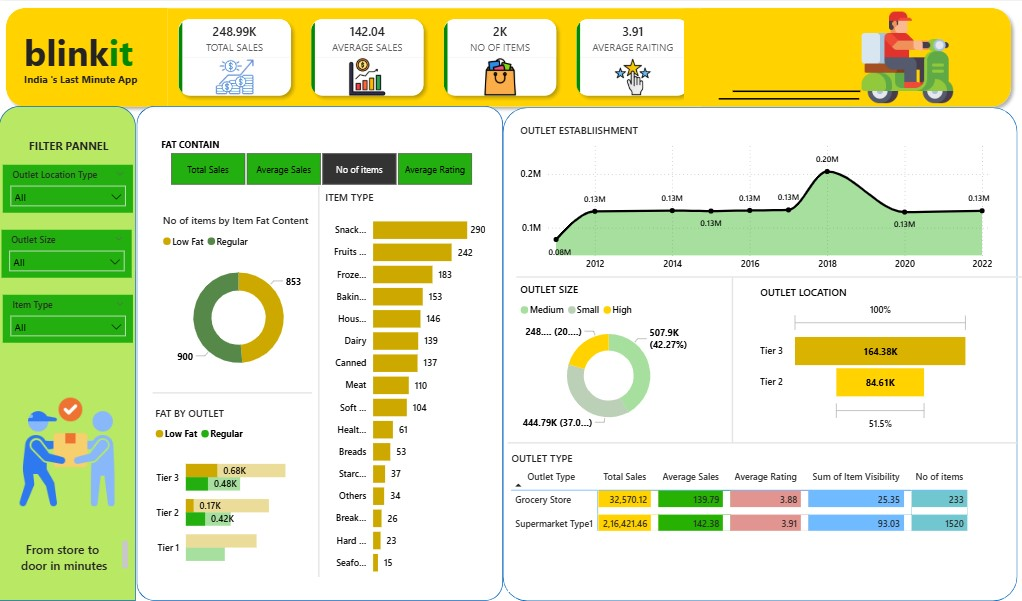

What the dashboard file says about the page in this screenshot:
{"tool":"powerbi","page":{"name":"Page 1","canvas":[1400,800],"ordinal":0},"visuals":[{"type":"shape","box":[0,0,1358.3,150.1],"z":0},{"type":"textbox","box":[28.8,30,167.5,100],"z":1000},{"type":"textbox","box":[28.5,90.1,199.6,30],"z":2000},{"type":"cardVisual","fields":{"Data":["BlinkIT Grocery Data.Total Sales","BlinkIT Grocery Data.Average Sales","BlinkIT Grocery Data.No of items","BlinkIT Grocery Data.Average Rating"]},"box":[205,10,710,130],"z":3000},{"type":"shape","box":[182.5,140,488.8,660],"z":4000},{"type":"donutChart","fields":{"Y":["BlinkIT Grocery Data.No of items"],"Series":["BlinkIT Grocery Data.Item Fat Content"]},"box":[212.5,282.5,212.5,232.5],"z":5000},{"type":"slicer","fields":{"Values":["Metrics.Metrics"]},"box":[202.5,177.5,451.2,73.8],"z":6000},{"type":"clusteredBarChart","title":"FAT BY  OUTLET","fields":{"Y":["BlinkIT Grocery Data.No of items"],"Category":["BlinkIT Grocery Data.Outlet Location Type"],"Series":["BlinkIT Grocery Data.Item Fat Content"]},"box":[202.5,540,222.5,232.5],"z":7000},{"type":"shape","box":[205.5,510.5,212.5,25],"z":8000},{"type":"shape","box":[418,246.8,16.2,521.2],"z":9000},{"type":"barChart","title":"ITEM TYPE","fields":{"Y":["BlinkIT Grocery Data.No of items"],"Category":["BlinkIT Grocery Data.Item Type"]},"box":[430,251.2,223.8,526.2],"z":10000},{"type":"shape","box":[671.2,141.2,686.2,658.8],"z":11000},{"type":"lineChart","title":"OUTLET ESTABLIISHMENT","fields":{"Y":["BlinkIT Grocery Data.Total Sales"],"Category":["BlinkIT Grocery Data.Outlet Establishment Year"]},"box":[690,163.8,640,205],"z":12000},{"type":"shape","box":[690.6,353.6,677.9,29.3],"z":13000},{"type":"donutChart","title":"OUTLET SIZE","fields":{"Category":["BlinkIT Grocery Data.Outlet Size"],"Y":["BlinkIT Grocery Data.Total Sales"]},"box":[690,375,246.2,203.8],"z":14000},{"type":"funnel","title":"OUTLET LOCATION","fields":{"Category":["BlinkIT Grocery Data.Outlet Location Type"],"Y":["Sum(BlinkIT Grocery Data.Sales)"]},"box":[1010,377.5,288.8,201.2],"z":15000},{"type":"pivotTable","title":"OUTLET TYPE","fields":{"Values":["BlinkIT Grocery Data.Total Sales","BlinkIT Grocery Data.Average Sales","BlinkIT Grocery Data.Average Rating","Sum(BlinkIT Grocery Data.Item Visibility)","BlinkIT Grocery Data.No of items"],"Rows":["BlinkIT Grocery Data.Outlet Type"]},"box":[679.1,600.3,688,188.2],"z":16000},{"type":"shape","box":[679.1,578.7,679.1,21.6],"z":17000},{"type":"shape","box":[0,140,182.5,660],"z":18000},{"type":"slicer","fields":{"Values":["BlinkIT Grocery Data.Outlet Location Type"]},"box":[5,218.8,173.8,63.8],"z":19000},{"type":"slicer","fields":{"Values":["BlinkIT Grocery Data.Outlet Size"]},"box":[3.8,305,173.8,63.8],"z":20000},{"type":"slicer","fields":{"Values":["BlinkIT Grocery Data.Item Type"]},"box":[5,391.2,173.8,63.8],"z":21000},{"type":"textbox","box":[35,177.5,130,30],"z":22000},{"type":"image","box":[1110,10,202.5,130],"z":23000},{"type":"shape","box":[953.8,81.2,193.8,97.5],"z":24000},{"type":"image","box":[18.8,500,145,202.5],"z":25000},{"type":"textbox","box":[5,715,172.5,50],"z":26000},{"type":"shape","box":[881.2,368.8,192.5,221.2],"z":27000},{"type":"shape","box":[977.5,71.2,170,97.5],"z":28000},{"type":"shape","box":[912.5,10,46.2,130],"z":29000}]}

Visuals, with their boxes in screenshot pixels (x1, y1, x2, y2), scaled from the page's 1400x800 canvas onto the 1022x601 screenshot:
shape: bbox=(0, 0, 992, 113)
textbox: bbox=(21, 23, 143, 98)
textbox: bbox=(21, 68, 167, 90)
cardVisual - BlinkIT Grocery Data.Total Sales x BlinkIT Grocery Data.Average Sales: bbox=(150, 8, 668, 105)
shape: bbox=(133, 105, 490, 600)
donutChart - BlinkIT Grocery Data.No of items x BlinkIT Grocery Data.Item Fat Content: bbox=(155, 212, 310, 387)
slicer - Metrics.Metrics: bbox=(148, 133, 477, 189)
"FAT BY  OUTLET" clusteredBarChart: bbox=(148, 406, 310, 580)
shape: bbox=(150, 384, 305, 402)
shape: bbox=(305, 185, 317, 577)
"ITEM TYPE" barChart: bbox=(314, 189, 477, 584)
shape: bbox=(490, 106, 991, 600)
"OUTLET ESTABLIISHMENT" lineChart: bbox=(504, 123, 971, 277)
shape: bbox=(504, 266, 999, 288)
"OUTLET SIZE" donutChart: bbox=(504, 282, 683, 435)
"OUTLET LOCATION" funnel: bbox=(737, 284, 948, 435)
"OUTLET TYPE" pivotTable: bbox=(496, 451, 998, 592)
shape: bbox=(496, 435, 991, 451)
shape: bbox=(0, 105, 133, 600)
slicer - BlinkIT Grocery Data.Outlet Location Type: bbox=(4, 164, 131, 212)
slicer - BlinkIT Grocery Data.Outlet Size: bbox=(3, 229, 130, 277)
slicer - BlinkIT Grocery Data.Item Type: bbox=(4, 294, 131, 342)
textbox: bbox=(26, 133, 120, 156)
image: bbox=(810, 8, 958, 105)
shape: bbox=(696, 61, 838, 134)
image: bbox=(14, 376, 120, 528)
textbox: bbox=(4, 537, 130, 575)
shape: bbox=(643, 277, 784, 443)
shape: bbox=(714, 53, 838, 127)
shape: bbox=(666, 8, 700, 105)
